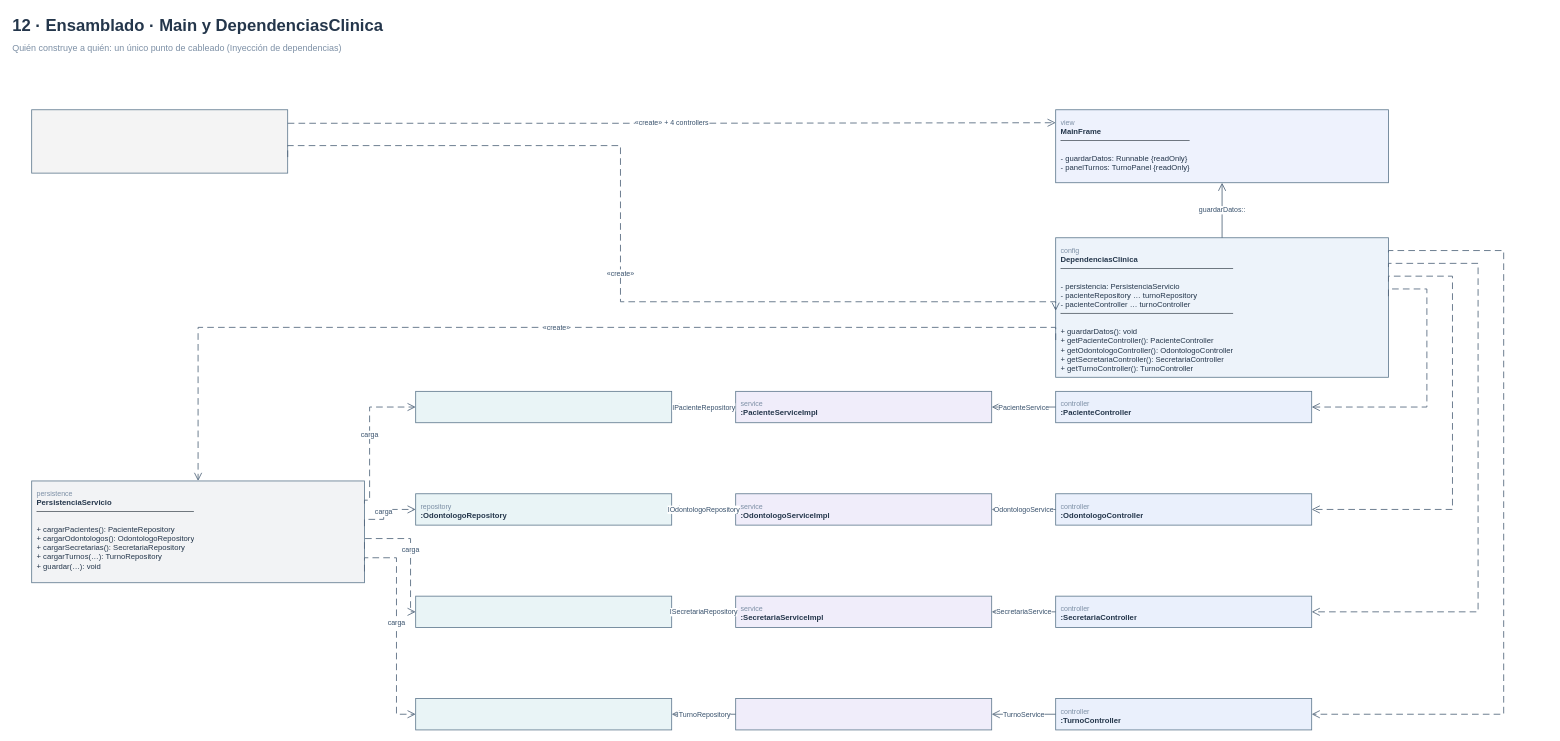
The diagram is 1560 pixels wide and 741 high, and some of its shapes have lost their labels. The centre of each missing label's shape, as x and y in pixels:
"(raiz) Main + main(args: String[]): void {static}" goes at (159,141).
"repository :PacienteRepository" goes at (543,407).
"repository :SecretariaRepository" goes at (543,611).
"repository :TurnoRepository" goes at (543,714).
"service :TurnoServiceImpl" goes at (863,714).
